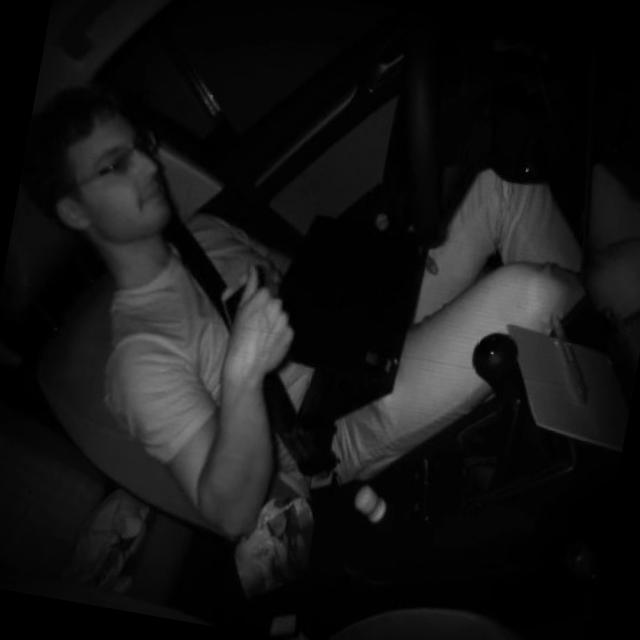pen: (536, 304, 606, 412)
